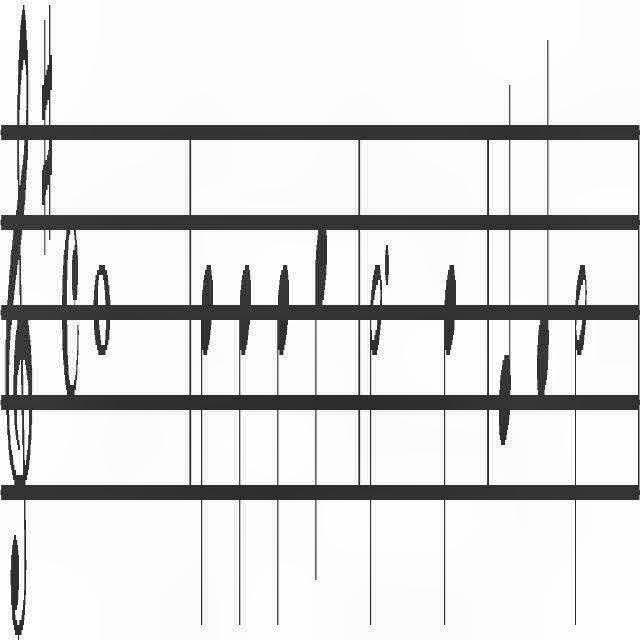Bass-clef: (4, 0, 36, 636)
Diez: (40, 1, 54, 268)
Full-note: (92, 250, 112, 366)
Half-note: (572, 250, 588, 638), (368, 256, 382, 636)
Quarter-note: (274, 258, 292, 634), (235, 252, 252, 636), (497, 70, 513, 462), (198, 253, 214, 639), (535, 27, 551, 405), (442, 258, 458, 634), (314, 214, 328, 598)
